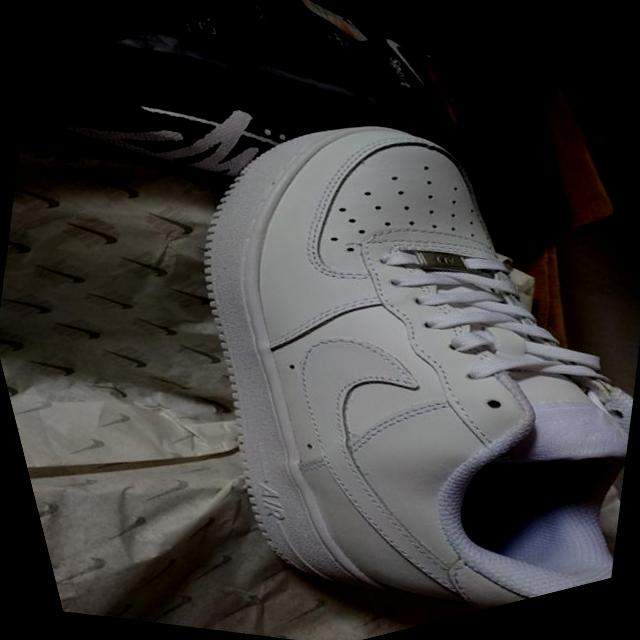nike_fake_airforce: (57, 16, 640, 640)
